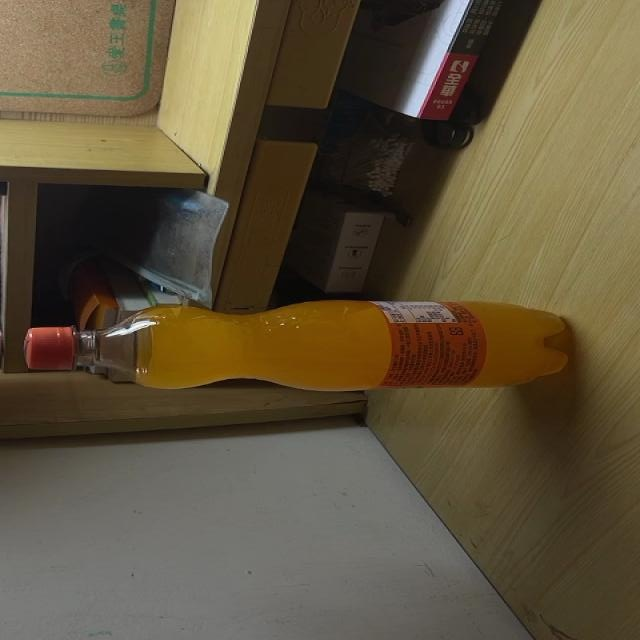Fanta: (24, 302, 570, 394)
